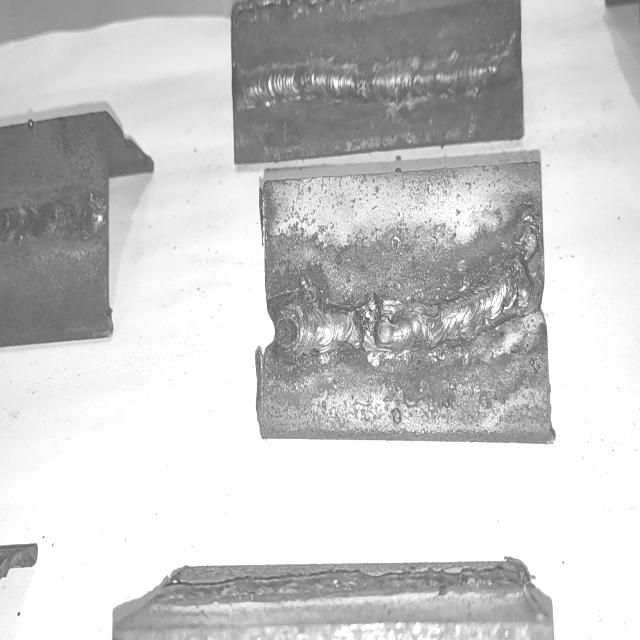Bad Weld: (276, 235, 541, 355)
Defect: (498, 205, 544, 315), (345, 270, 390, 370)
Good Weld: (0, 190, 101, 244)
